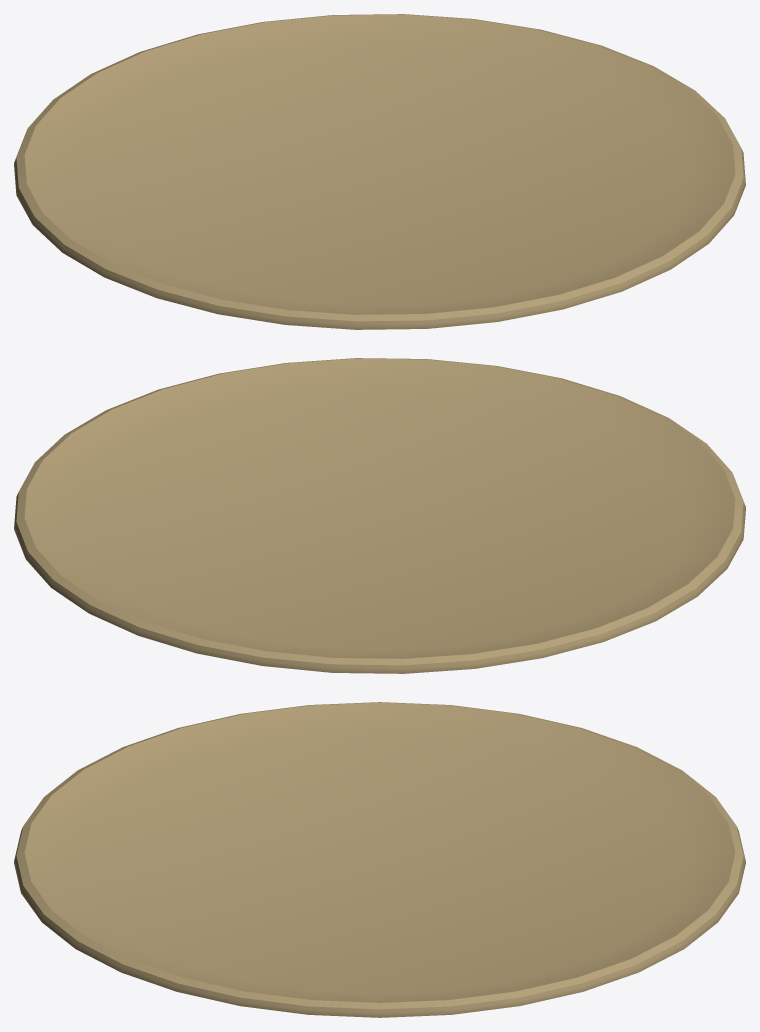
Rendered from uncooked dough.fbx.
3 views of the same model, one above another, from view 1: azimuth 30°, elevation 25°; view 2: azimuth 150°, elevation 25°; view 3: azimuth 270°, elevation 25° (orthographic).
Parts seen in each view (by area): view 1: Circle.005; view 2: Circle.005; view 3: Circle.005.
Boxes of the visible parts, <box> form: Circle.005: <box>14,14,745,329</box>; Circle.005: <box>14,358,745,673</box>; Circle.005: <box>14,702,745,1017</box>.
Size of the model in its own units: 16.36 by 0.2752 by 16.36.
